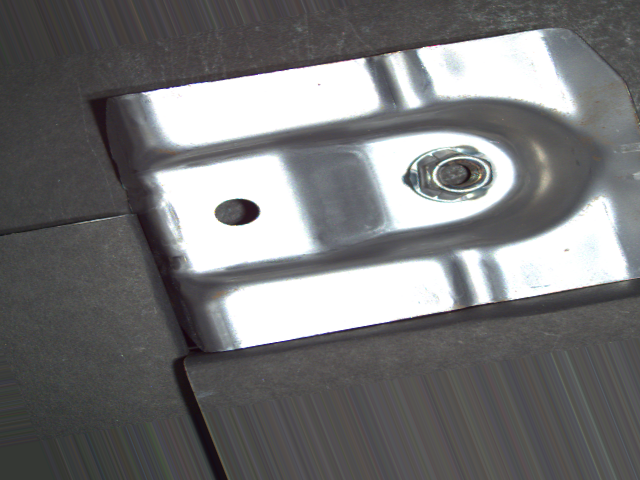good: (400, 141, 502, 207)
